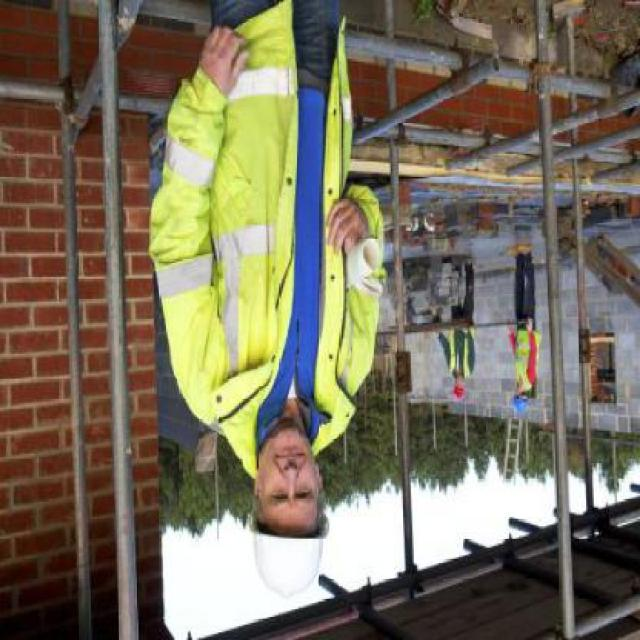safetyhelmet: (225, 417, 361, 589)
